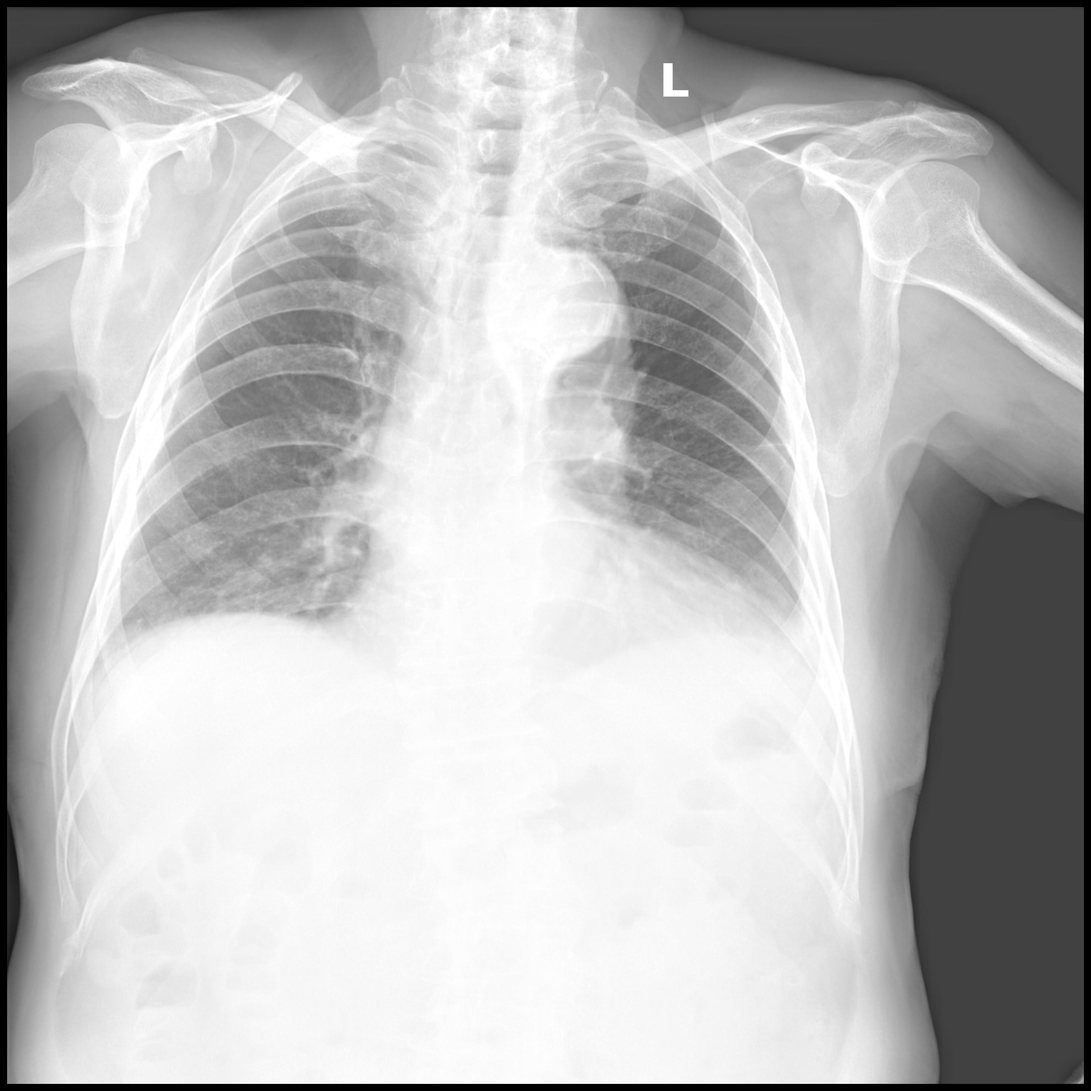Aortic enlargement: (492, 241, 634, 385)
Cardiomegaly: (344, 499, 791, 650)
Pulmonary fibrosis: (751, 435, 790, 451)
